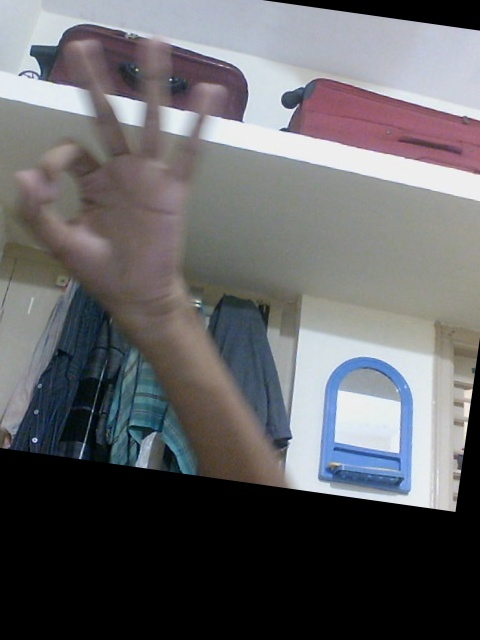hand: (10, 35, 223, 331)
